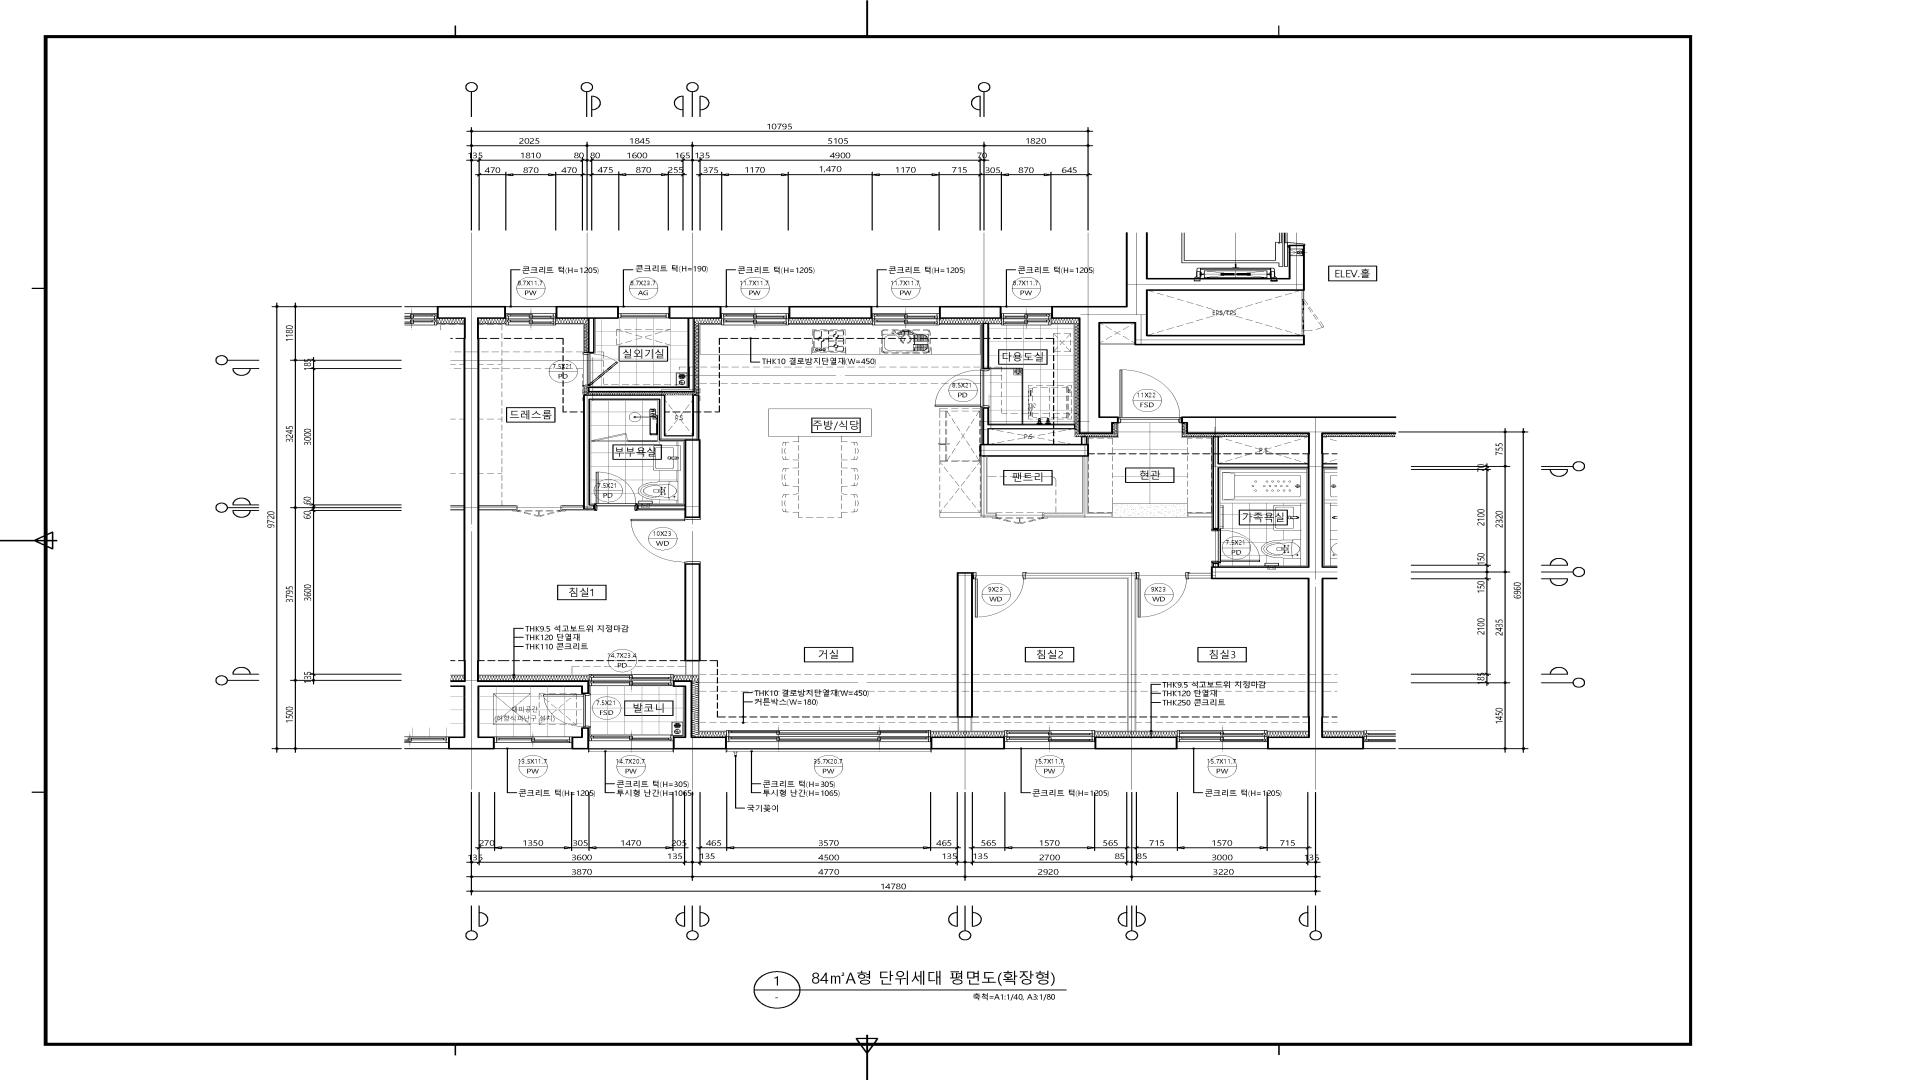background: (0, 0, 1920, 1079)
door: (1118, 369, 1182, 423), (632, 518, 700, 563), (1135, 572, 1188, 617), (973, 572, 1025, 617), (935, 369, 989, 407), (595, 472, 637, 510), (1212, 529, 1261, 562), (1302, 299, 1324, 331), (591, 433, 658, 442), (996, 513, 1044, 525), (517, 505, 562, 517)
wall: (463, 306, 589, 749), (1051, 232, 1305, 434), (1182, 417, 1324, 749), (939, 407, 1113, 517), (1025, 572, 1135, 732), (562, 394, 700, 518), (588, 306, 721, 392), (1212, 436, 1308, 529), (673, 680, 727, 749), (555, 306, 618, 352), (957, 572, 973, 732), (684, 563, 700, 675), (789, 306, 873, 319), (1095, 737, 1178, 749), (931, 736, 1005, 749), (939, 306, 1002, 319), (571, 728, 589, 749), (982, 323, 989, 369), (479, 505, 517, 510), (1188, 572, 1211, 579), (1101, 343, 1134, 344), (1302, 291, 1304, 299), (1302, 331, 1304, 335)
window: (727, 731, 931, 752), (1005, 731, 1095, 749), (1178, 731, 1267, 749), (588, 735, 674, 752), (721, 306, 789, 326), (872, 306, 939, 326), (588, 674, 674, 686), (495, 737, 572, 749), (505, 306, 555, 319), (1002, 306, 1051, 319), (618, 306, 669, 318)
